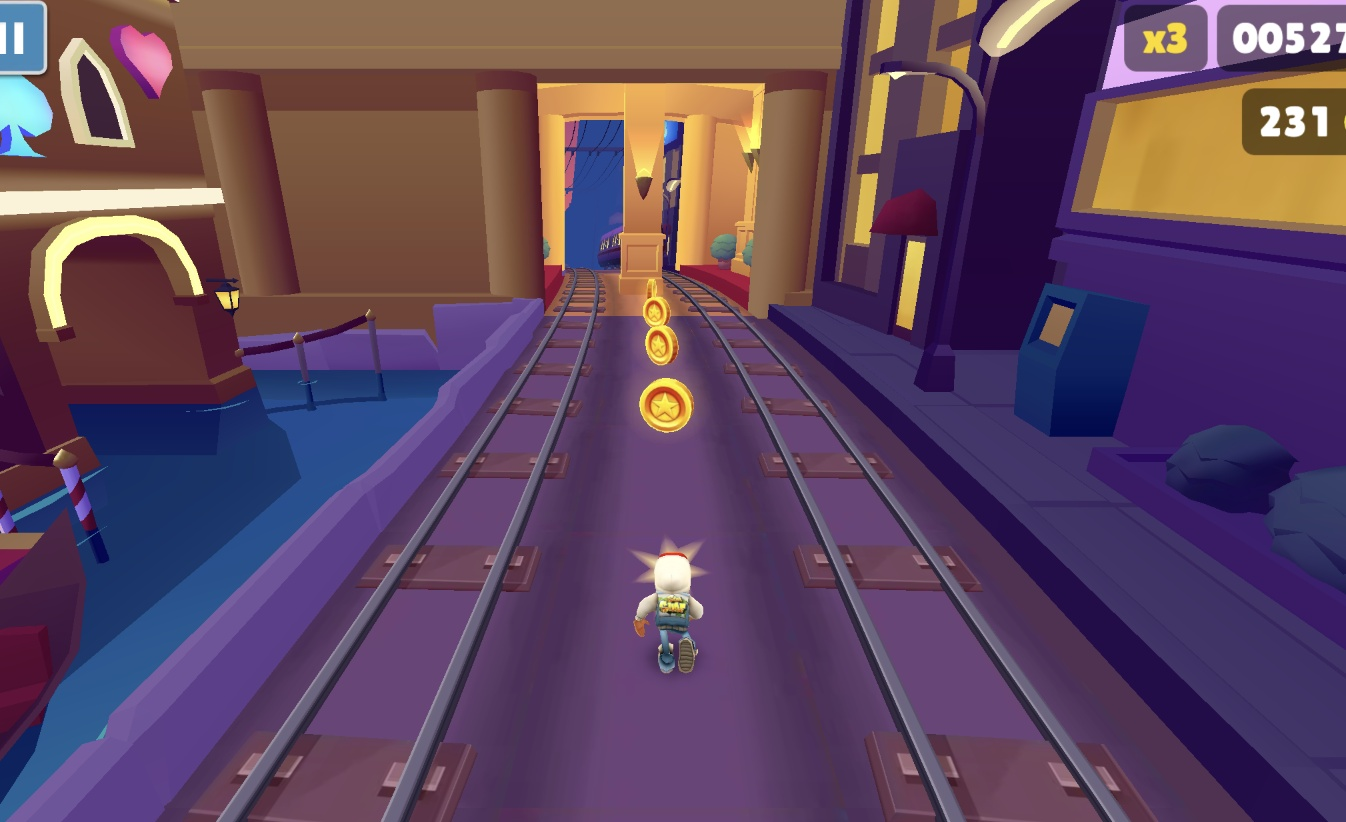pillar: (618, 86, 668, 286)
